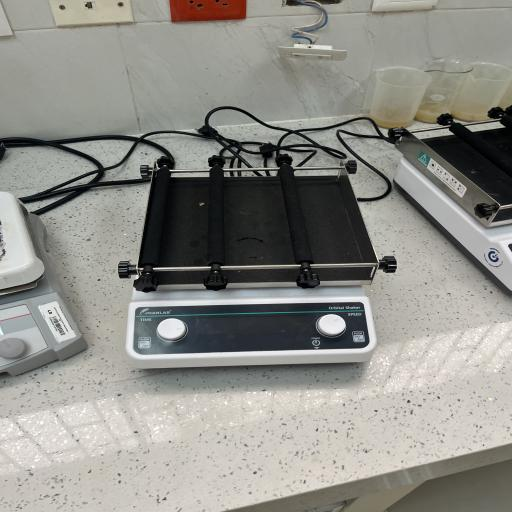Agitador_Orbital_DLAB: (98, 148, 409, 380)
